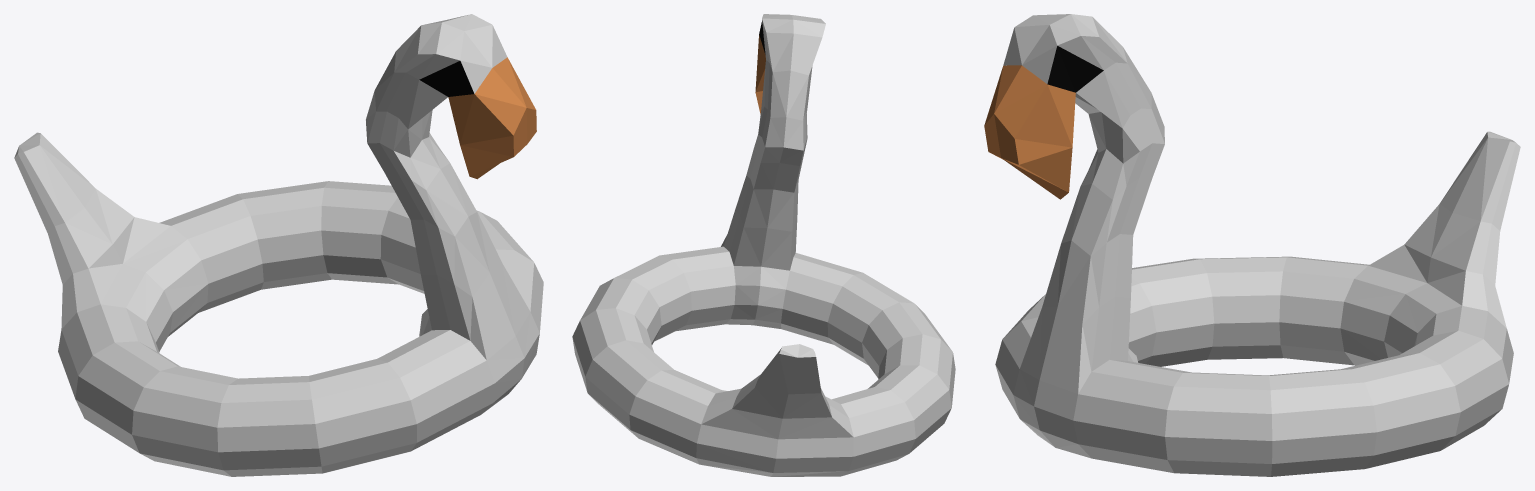
The model's file is floaty.fbx.
3 views of the same model, side by side, from view 1: azimuth 30°, elevation 25°; view 2: azimuth 150°, elevation 25°; view 3: azimuth 270°, elevation 25° (orthographic). The views are drawn at different scales.
Parts seen in each view (by area): view 1: FLOAT2; view 2: FLOAT2; view 3: FLOAT2.
Part boxes in pixels (left/top/right/bottom): FLOAT2: left=14, top=14, right=543, bottom=476; FLOAT2: left=572, top=14, right=955, bottom=476; FLOAT2: left=984, top=14, right=1520, bottom=476.
Size of the model in its own units: 630 by 613 by 658.
